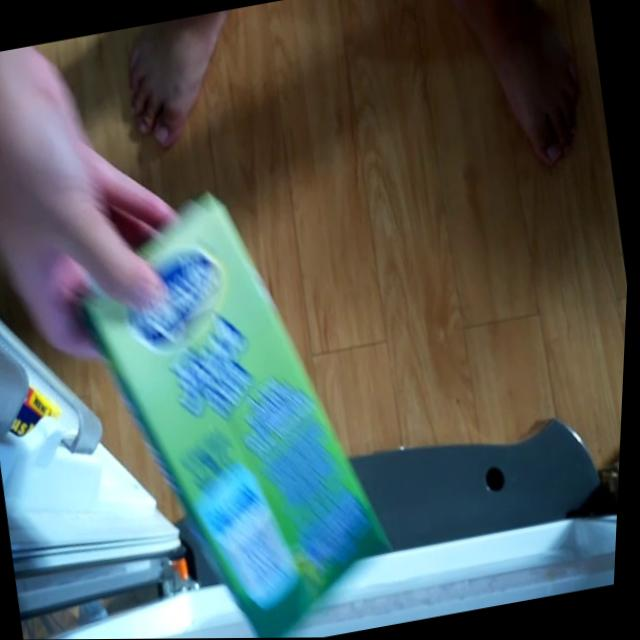milk: (53, 166, 430, 640)
